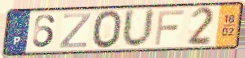2: (186, 6, 216, 48)
6: (32, 13, 57, 50)
F: (153, 9, 186, 47)
O: (92, 9, 124, 50)
U: (121, 8, 157, 50)
Z: (58, 12, 94, 50)
